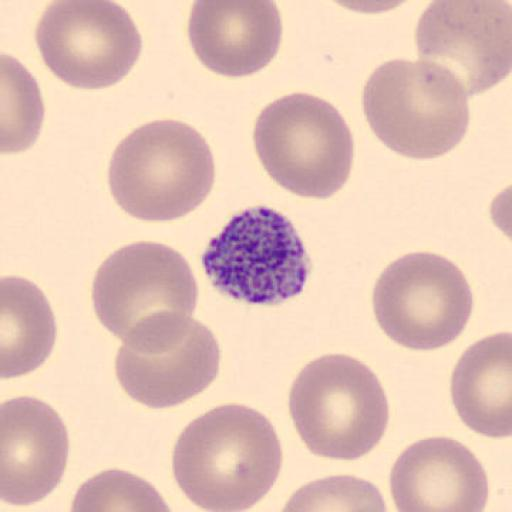Platelet: (198, 204, 316, 307)
RBC: (170, 402, 285, 512), (105, 116, 218, 225), (360, 56, 472, 163), (286, 350, 391, 464), (90, 238, 200, 344), (251, 90, 355, 202), (370, 248, 476, 353), (112, 309, 222, 410), (32, 0, 144, 92), (411, 0, 512, 96), (388, 434, 492, 512), (2, 394, 71, 508), (186, 0, 284, 79), (449, 329, 512, 440), (2, 274, 58, 380), (68, 467, 175, 512), (2, 51, 46, 156), (276, 472, 390, 512), (318, 1, 430, 16), (488, 180, 512, 242)
